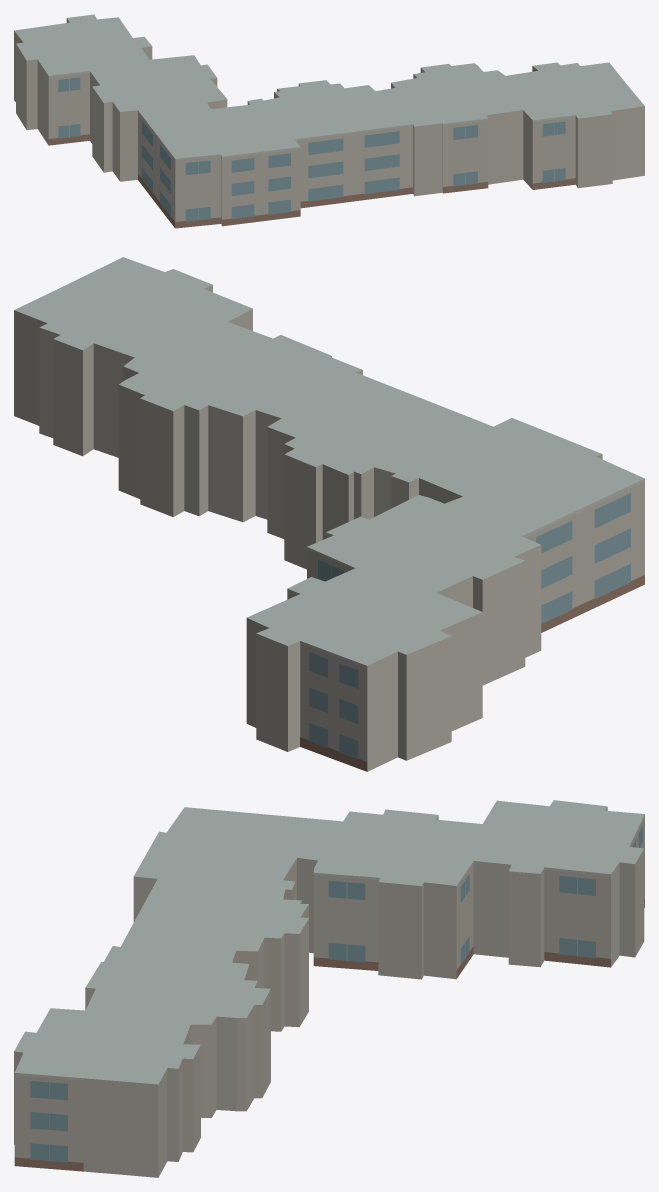
File: survey-upis-32470613.glb
The picture shows the model from 3 angles, top to bottom: view 1: azimuth 30°, elevation 25°; view 2: azimuth 150°, elevation 25°; view 3: azimuth 270°, elevation 25°; orthographic projection. The views are drawn at different scales.
Visible parts, largest first — view 1: survey-upis-32470613.tmp; view 2: survey-upis-32470613.tmp; view 3: survey-upis-32470613.tmp.
Boxes of the visible parts, bbox=[...] form: survey-upis-32470613.tmp: bbox=[14, 14, 644, 228]; survey-upis-32470613.tmp: bbox=[14, 257, 644, 771]; survey-upis-32470613.tmp: bbox=[14, 800, 644, 1177].
Bounding box in the file's own units: 59.83 × 9.15 × 56.08.
